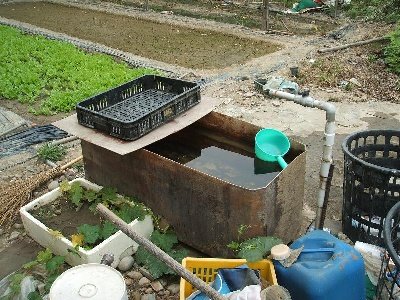bowl: (254, 128, 291, 162)
box: (81, 109, 306, 258)
bucket: (271, 229, 365, 300)
styrofoam: (19, 177, 153, 269)
